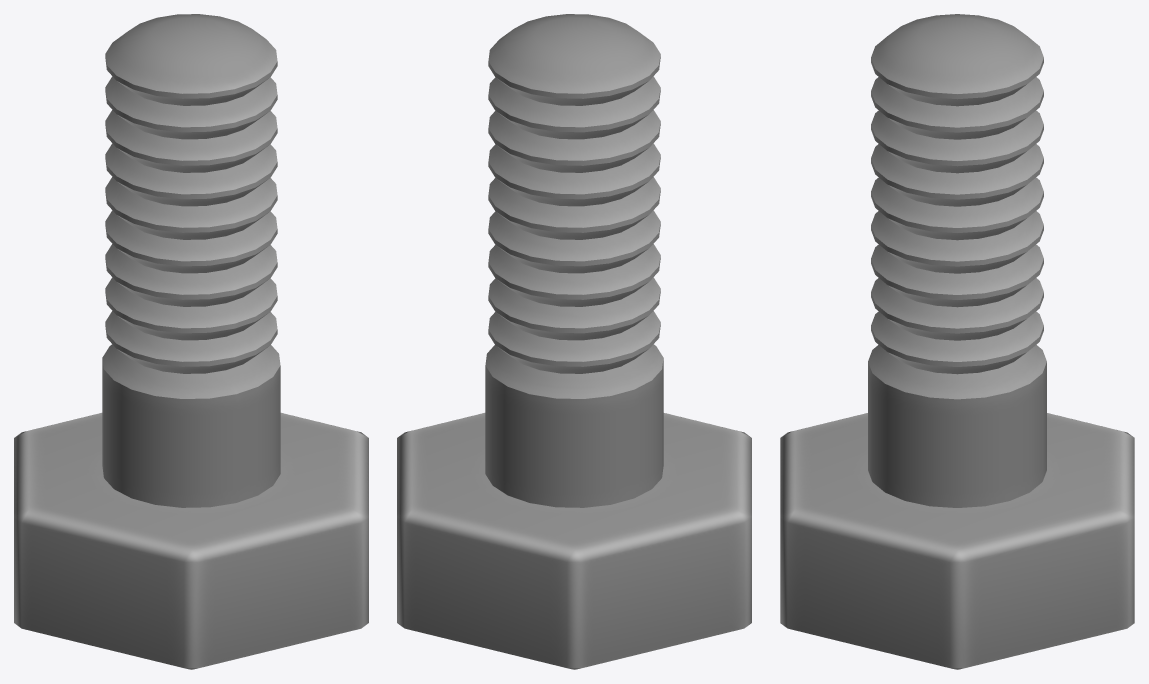
The model's file is screw_grey.fbx.
The picture shows the model from 3 angles, left to right: view 1: azimuth 30°, elevation 25°; view 2: azimuth 150°, elevation 25°; view 3: azimuth 270°, elevation 25°; orthographic projection.
Parts seen in each view (by area): view 1: polySurface7.003; view 2: polySurface7.003; view 3: polySurface7.003.
Boxes of the visible parts, bbox=[...] form: polySurface7.003: bbox=[14, 14, 368, 669]; polySurface7.003: bbox=[397, 14, 751, 669]; polySurface7.003: bbox=[780, 14, 1134, 669].
Bounding box in the file's own units: 0.3248 × 0.5 × 0.2874.
